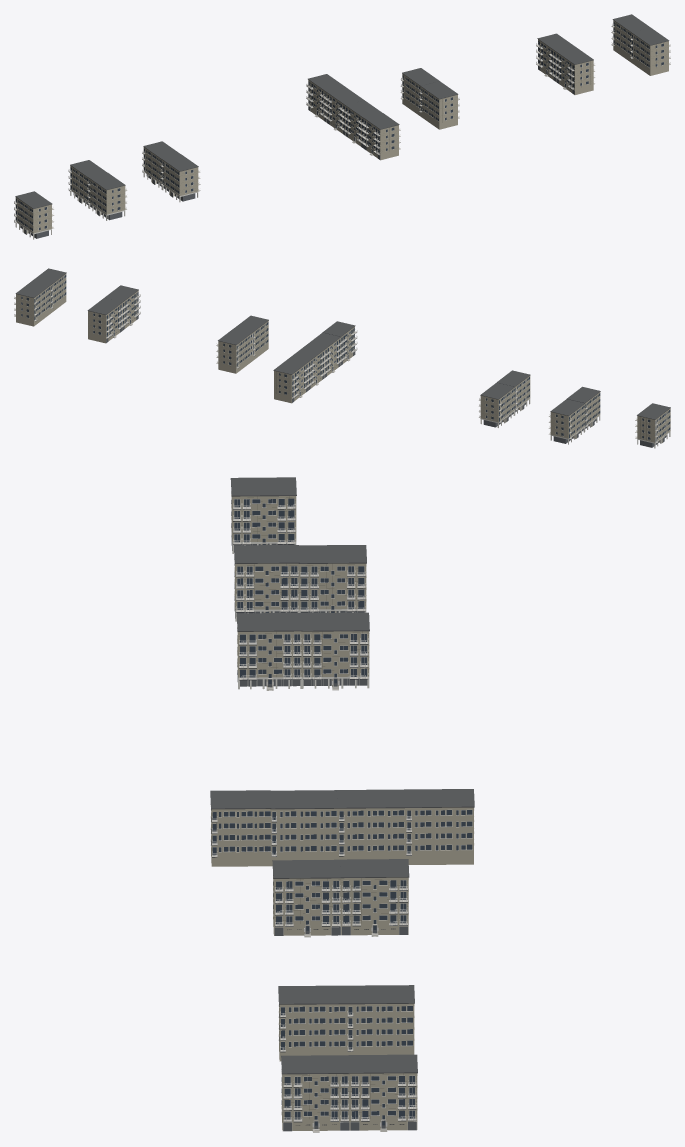
Rendered from comenius-baked-1.glb.
3 renders of one model, top to bottom at view 1: azimuth 30°, elevation 25°; view 2: azimuth 150°, elevation 25°; view 3: azimuth 270°, elevation 25°, orthographic. The views are drawn at different scales.
Visible parts, largest first — view 1: nw-pilotis-panel-flat-0363100012096976, nw-pilotis-panel-flat-0363100012078345, nw-pilotis-panel-flat-0363100012084277, nw-pilotis-panel-flat-0363100012084264, nw-pilotis-panel-flat-0363100012105891, nw-pilotis-panel-flat-0363100012135977, nw-pilotis-panel-flat-0363100012155085, nw-pilotis-panel-flat-0363100012133520, nw-pilotis-panel-flat-0363100012109852, nw-pilotis-panel-flat-0363100012066354, nw-pilotis-panel-flat-0363100012114266, nw-pilotis-panel-flat-0363100012134609 (+3 smaller); view 2: nw-pilotis-panel-flat-0363100012133520, nw-pilotis-panel-flat-0363100012066354, nw-pilotis-panel-flat-0363100012114266, nw-pilotis-panel-flat-0363100012134609, nw-pilotis-panel-flat-0363100012139456, nw-pilotis-panel-flat-0363100012143810, nw-pilotis-panel-flat-0363100012135977, nw-pilotis-panel-flat-0363100012096976, nw-pilotis-panel-flat-0363100012066627, nw-pilotis-panel-flat-0363100012109852, nw-pilotis-panel-flat-0363100012084277, nw-pilotis-panel-flat-0363100012078345 (+3 smaller); view 3: nw-pilotis-panel-flat-0363100012133520, nw-pilotis-panel-flat-0363100012084277, nw-pilotis-panel-flat-0363100012078345, nw-pilotis-panel-flat-0363100012114266, nw-pilotis-panel-flat-0363100012066354, nw-pilotis-panel-flat-0363100012143810, nw-pilotis-panel-flat-0363100012105891, nw-pilotis-panel-flat-0363100012096976, nw-pilotis-panel-flat-0363100012066627, nw-pilotis-panel-flat-0363100012109852, nw-pilotis-panel-flat-0363100012134609, nw-pilotis-panel-flat-0363100012155085 (+3 smaller).
Part boxes in pixels (x1,y1,x2,y2): nw-pilotis-panel-flat-0363100012096976: (554,46,595,94); nw-pilotis-panel-flat-0363100012078345: (630,27,670,75); nw-pilotis-panel-flat-0363100012084277: (419,81,459,129); nw-pilotis-panel-flat-0363100012084264: (87,172,127,220); nw-pilotis-panel-flat-0363100012105891: (160,154,200,202); nw-pilotis-panel-flat-0363100012135977: (14,191,54,239); nw-pilotis-panel-flat-0363100012155085: (362,113,400,160); nw-pilotis-panel-flat-0363100012133520: (306,74,345,122); nw-pilotis-panel-flat-0363100012109852: (343,100,382,148); nw-pilotis-panel-flat-0363100012066354: (611,14,650,62); nw-pilotis-panel-flat-0363100012114266: (400,68,439,116); nw-pilotis-panel-flat-0363100012134609: (536,33,574,81); nw-pilotis-panel-flat-0363100012133520: (273,357,310,403); nw-pilotis-panel-flat-0363100012066354: (14,281,50,326); nw-pilotis-panel-flat-0363100012114266: (216,328,252,373); nw-pilotis-panel-flat-0363100012134609: (87,298,124,343); nw-pilotis-panel-flat-0363100012139456: (548,399,584,444); nw-pilotis-panel-flat-0363100012143810: (479,382,514,427); nw-pilotis-panel-flat-0363100012135977: (635,403,670,448); nw-pilotis-panel-flat-0363100012096976: (104,285,140,330); nw-pilotis-panel-flat-0363100012066627: (290,345,326,390); nw-pilotis-panel-flat-0363100012109852: (307,332,342,377); nw-pilotis-panel-flat-0363100012084277: (235,315,268,360); nw-pilotis-panel-flat-0363100012078345: (32,268,66,313); nw-pilotis-panel-flat-0363100012133520: (404,789,474,864); nw-pilotis-panel-flat-0363100012084277: (272,859,341,937); nw-pilotis-panel-flat-0363100012078345: (281,1055,350,1132); nw-pilotis-panel-flat-0363100012114266: (340,859,409,936); nw-pilotis-panel-flat-0363100012066354: (348,1054,417,1131); nw-pilotis-panel-flat-0363100012143810: (301,612,369,690); nw-pilotis-panel-flat-0363100012105891: (236,613,302,690); nw-pilotis-panel-flat-0363100012096976: (278,985,347,1061); nw-pilotis-panel-flat-0363100012066627: (336,789,405,859); nw-pilotis-panel-flat-0363100012109852: (270,790,338,866); nw-pilotis-panel-flat-0363100012134609: (347,985,414,1055); nw-pilotis-panel-flat-0363100012155085: (210,790,271,866).
Bounding box in the file's own units: 340 × 15.52 × 63.38.
